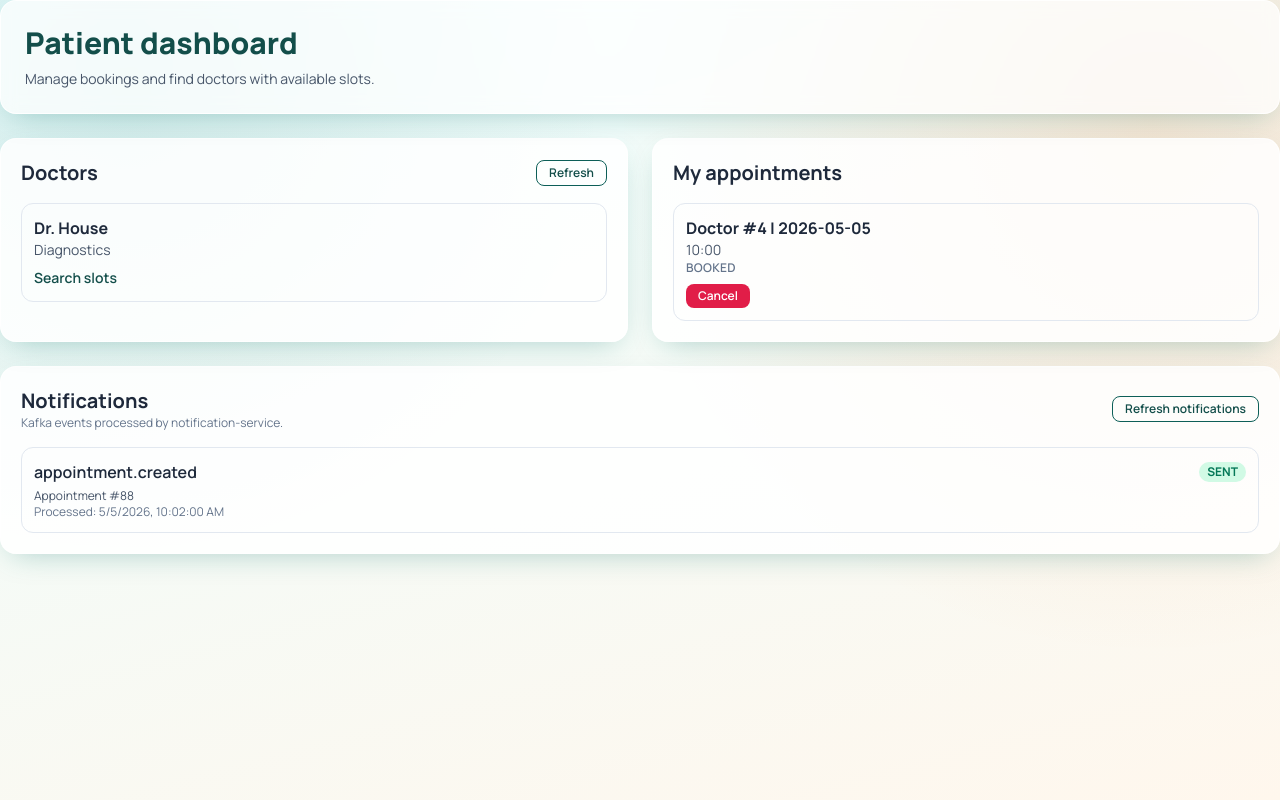
Test case: PatientDashboardPage › loads doctors and appointments and cancels booked appointment
Expected: the text "Dr. House" is shown, x1=34 y1=217 x2=108 y2=239
Expected: the text "Doctor #4 | 2026-05-05" is shown, x1=686 y1=217 x2=871 y2=239
Step 1. Click the button "Cancel" → [718, 296], box x1=686 y1=284 x2=750 y2=308
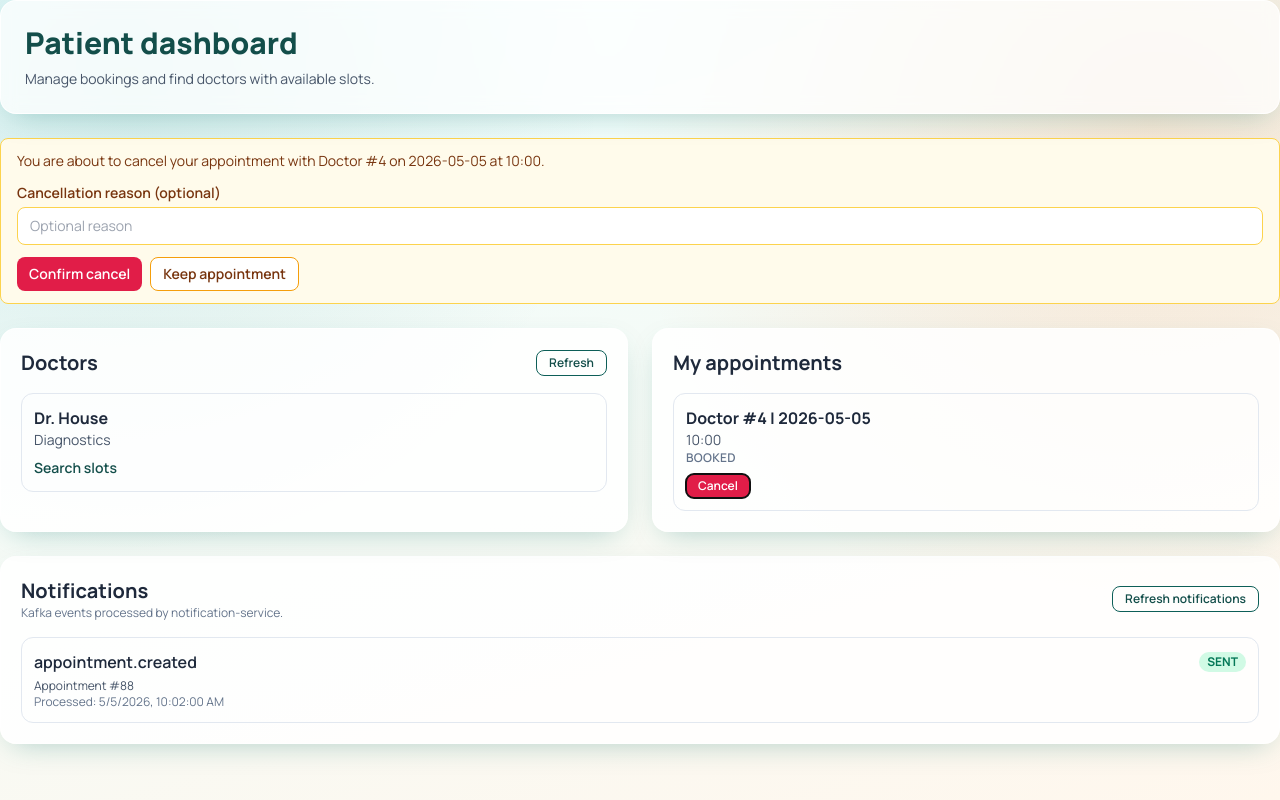
Expected: the text "You are about to cancel your appointment with Doctor #4 on 2026-05-05 at 10:00." is shown, x1=17 y1=151 x2=545 y2=170
Step 2. Type "Need reschedule" into the field with placeholder "Optional reason" → [640, 226], box x1=17 y1=207 x2=1263 y2=245
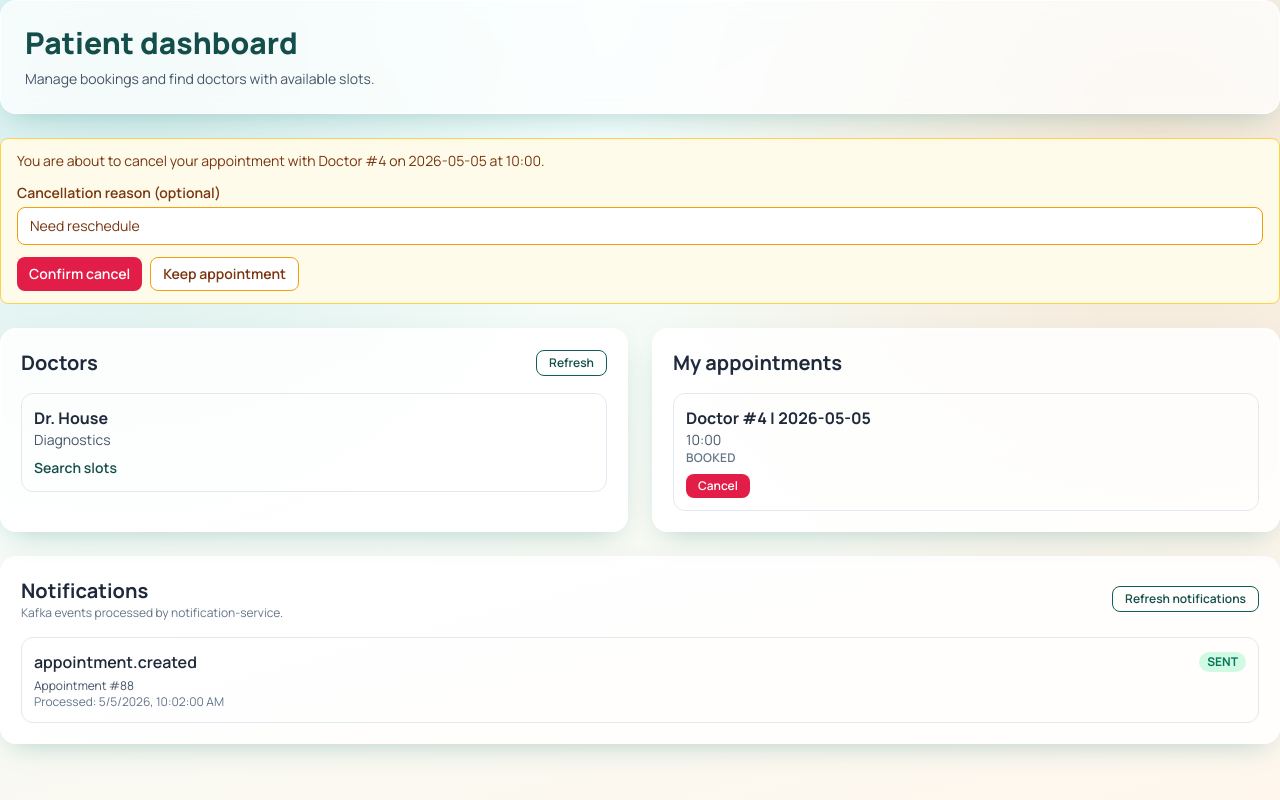
Step 3. Click the button "Confirm cancel" → [80, 274], box x1=17 y1=257 x2=142 y2=291
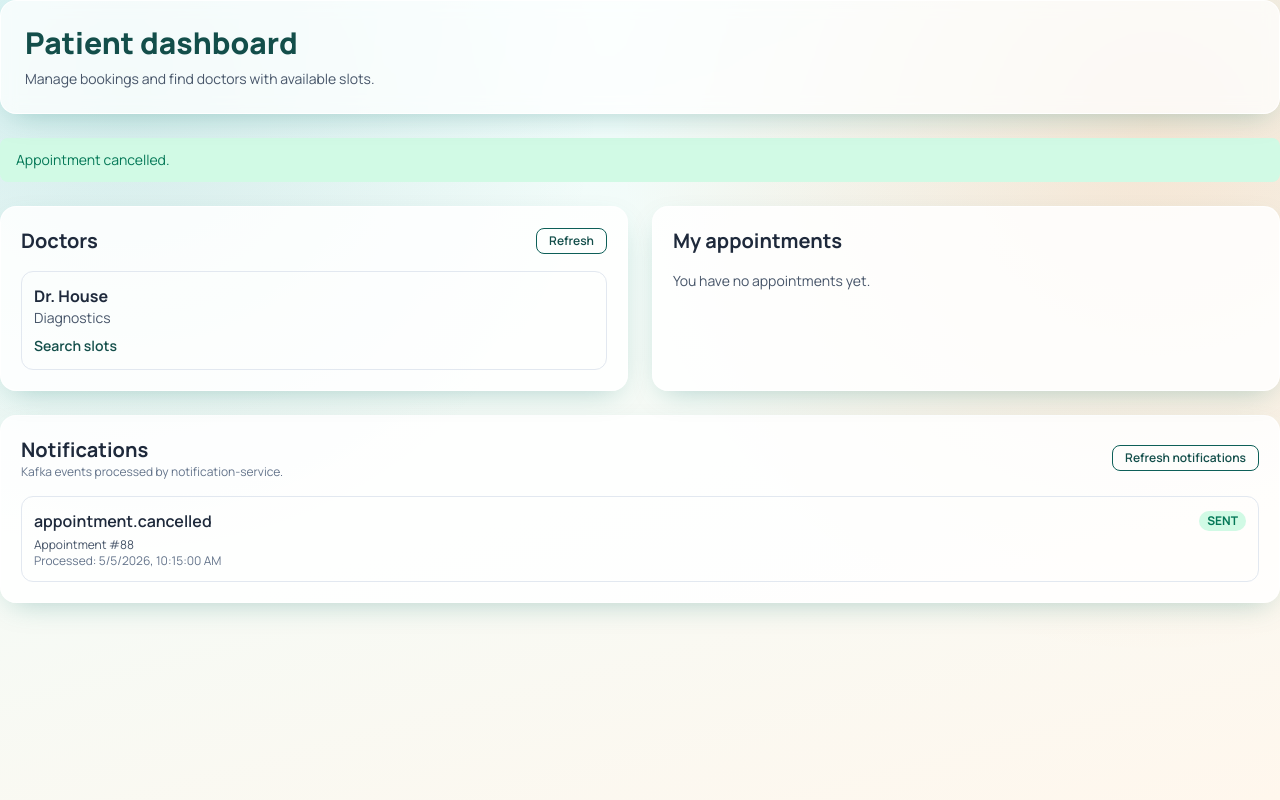
Expected: the text "You have no appointments yet." is shown, x1=673 y1=271 x2=870 y2=290
Expected: the text "appointment.cancelled" is shown, x1=34 y1=509 x2=212 y2=533
